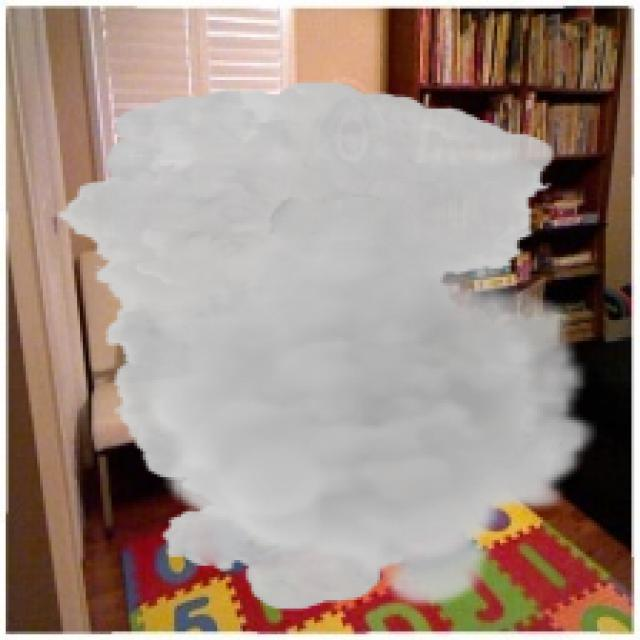Smoke: (54, 79, 597, 612)
